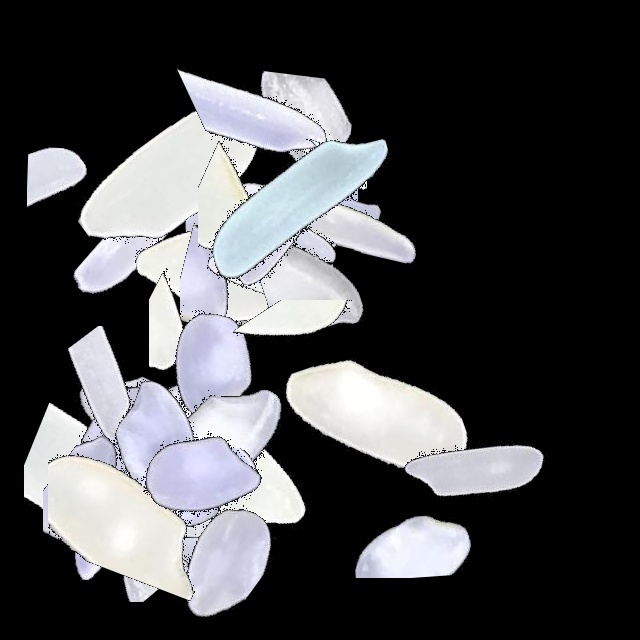Broken: (72, 193, 322, 365), (214, 35, 383, 285), (48, 365, 212, 615), (0, 326, 250, 488), (66, 458, 316, 618), (215, 191, 465, 350), (143, 10, 393, 162), (93, 322, 343, 472), (43, 388, 189, 638), (24, 354, 168, 604), (283, 437, 533, 578), (180, 162, 309, 412), (122, 143, 372, 269), (27, 64, 150, 314), (198, 73, 316, 323), (115, 207, 365, 324), (184, 218, 434, 326), (266, 70, 367, 320), (258, 60, 358, 310), (0, 504, 250, 602), (0, 385, 250, 481), (149, 185, 240, 435), (169, 300, 419, 389), (239, 87, 327, 337), (218, 119, 305, 369), (103, 448, 353, 533), (208, 274, 458, 350)
Full: (110, 168, 360, 418), (21, 296, 271, 546), (64, 378, 314, 628), (25, 88, 275, 338), (1, 357, 251, 607), (57, 390, 307, 640), (253, 292, 503, 542), (192, 104, 442, 354), (10, 332, 260, 582), (105, 341, 355, 591), (0, 313, 250, 563), (48, 53, 298, 303), (186, 94, 436, 344), (144, 107, 394, 357), (137, 116, 387, 366), (86, 243, 336, 493), (45, 364, 295, 614), (351, 340, 601, 590), (156, 100, 406, 350), (39, 354, 289, 604), (33, 315, 283, 565), (175, 81, 425, 331), (76, 355, 326, 605)
